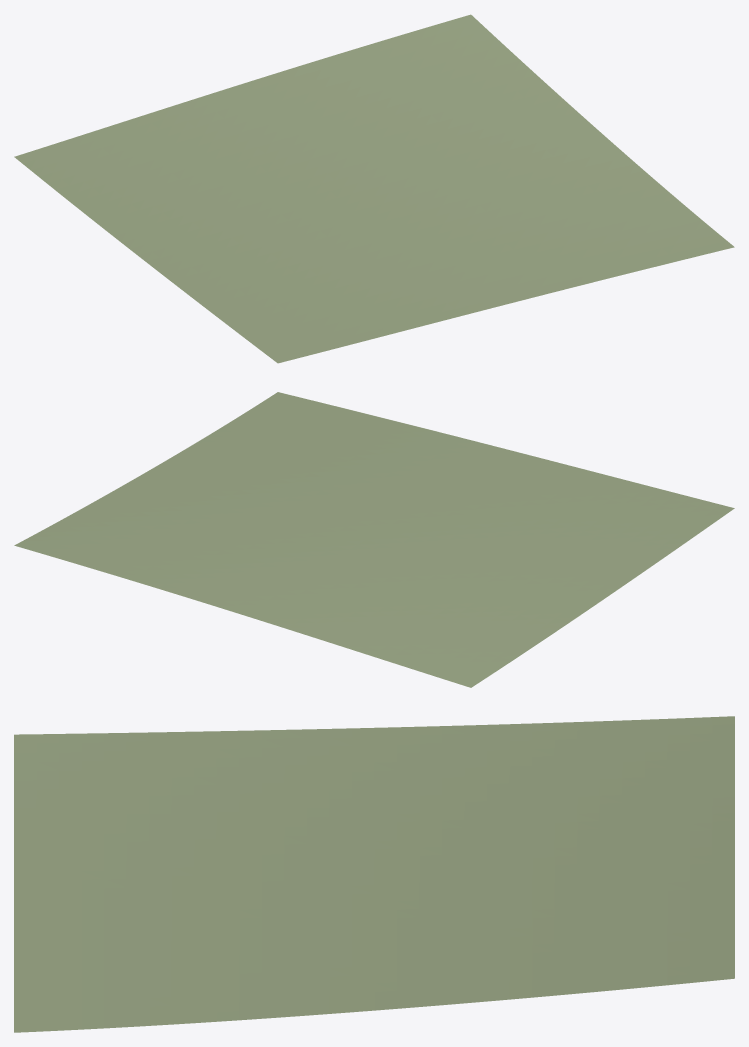
File: desert-23-12.glb
The picture shows the model from 3 angles, top to bottom: view 1: azimuth 30°, elevation 25°; view 2: azimuth 150°, elevation 25°; view 3: azimuth 270°, elevation 25°; orthographic projection. The views are drawn at different scales.
Visible parts, largest first — view 1: desert-23-12; view 2: desert-23-12; view 3: desert-23-12.
Boxes of the visible parts, x1=… form: desert-23-12: x1=14, y1=14, x2=734, y2=363; desert-23-12: x1=14, y1=392, x2=734, y2=687; desert-23-12: x1=14, y1=716, x2=734, y2=1032.
Size of the model in its own units: 512 by 47.45 by 512.
